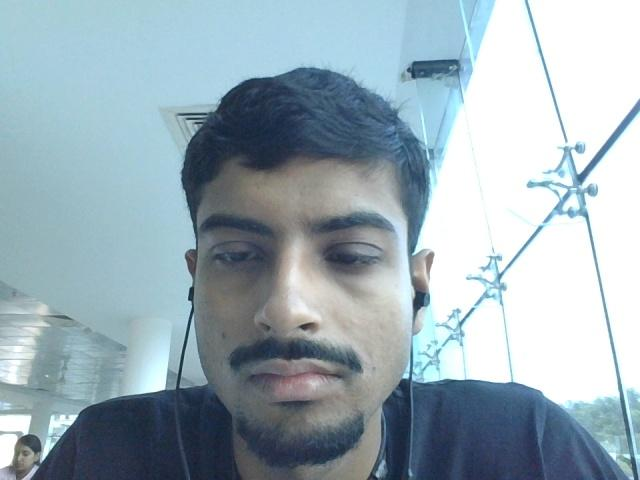nervous: (155, 66, 453, 466)
